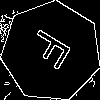F: (26, 27, 81, 77)
